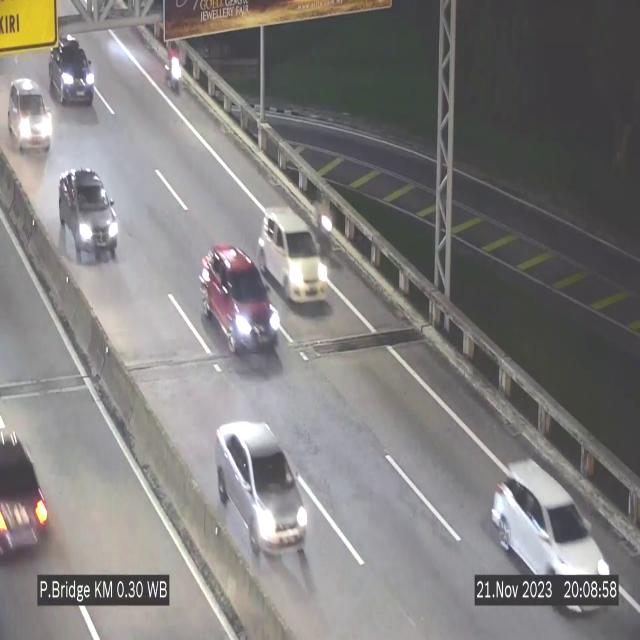Car: (486, 434, 622, 626), (215, 422, 307, 560), (0, 404, 60, 564), (200, 244, 278, 354), (258, 206, 328, 304), (59, 169, 118, 263), (2, 72, 54, 162), (49, 37, 95, 104)
Motorcycle: (166, 42, 184, 100), (317, 194, 333, 258)
